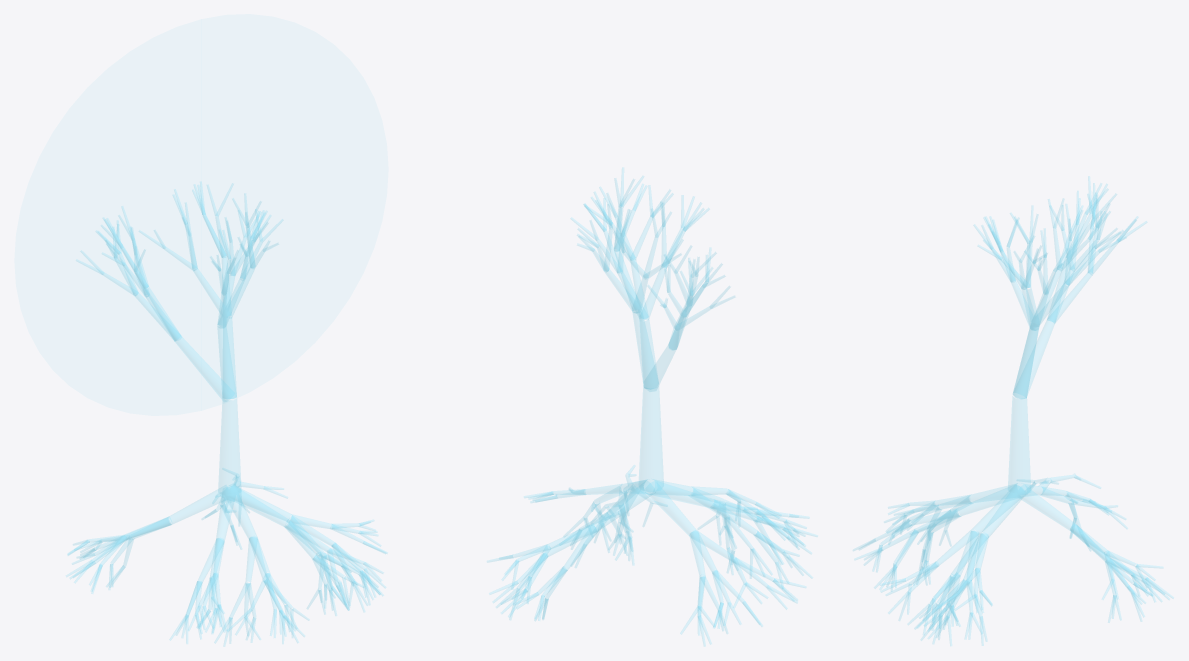
File: yggdrasil.glb
The picture shows the model from 3 angles, left to right: view 1: azimuth 30°, elevation 25°; view 2: azimuth 150°, elevation 25°; view 3: azimuth 270°, elevation 25°; orthographic projection. The views are drawn at different scales.
Size of the model in its own units: 460 by 659 by 339.
